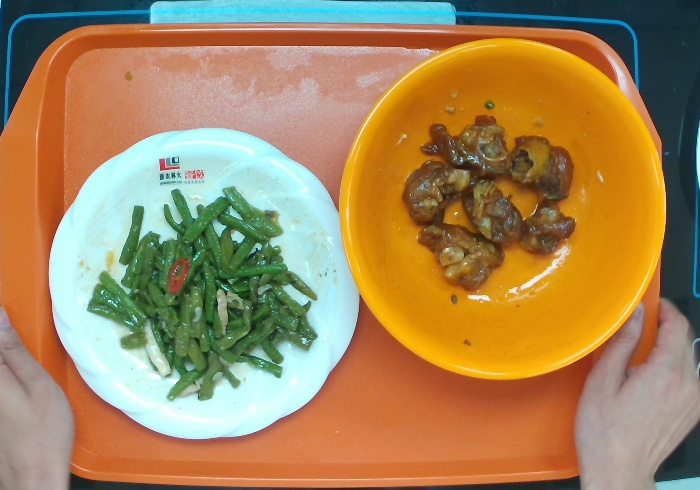ZNLD-Hua_Bian_Wan: (50, 126, 363, 441)
ZNLD-Ju_Se_Tang_Wan: (340, 37, 666, 382)
